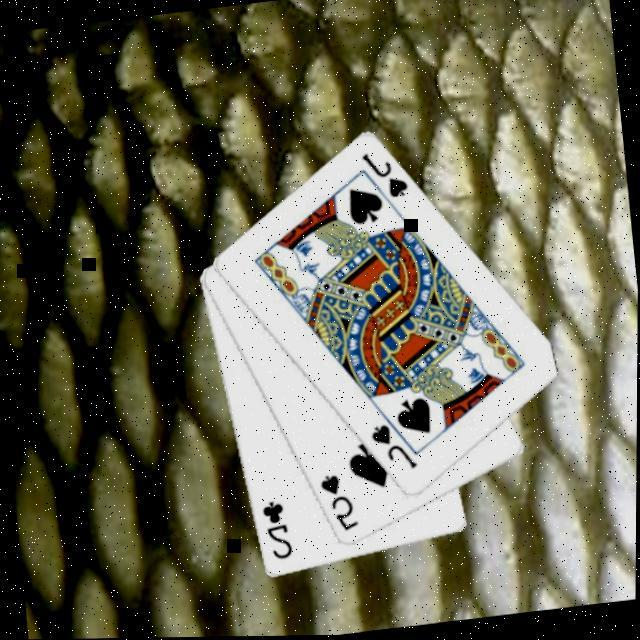2C: (258, 496, 297, 563)
5S: (316, 468, 362, 537)
JS: (357, 145, 412, 205), (367, 416, 421, 476)
